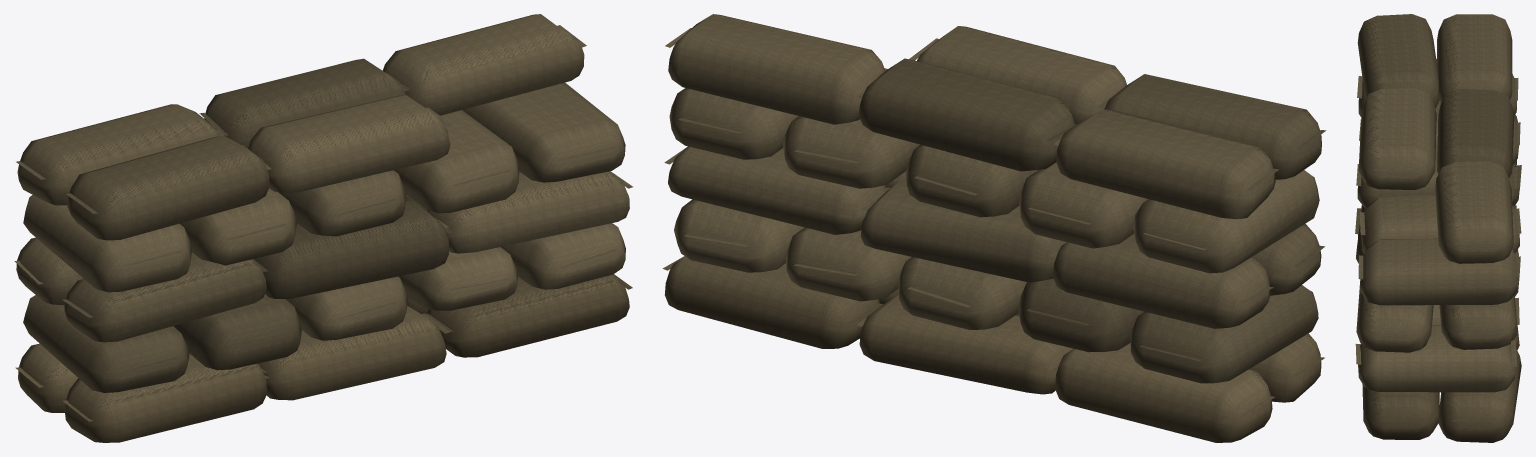
File: sandbags.glb
3 views of the same model, side by side, from view 1: azimuth 30°, elevation 25°; view 2: azimuth 150°, elevation 25°; view 3: azimuth 270°, elevation 25° (orthographic). The views are drawn at different scales.
Parts seen in each view (by area): view 1: sandbags; view 2: sandbags; view 3: sandbags.
Part boxes in pixels (x1,y1,x2,y2): sandbags: (14,14,632,442); sandbags: (662,14,1326,442); sandbags: (1355,14,1521,442).
Bounding box in the file's own units: 1.99 × 0.8987 × 0.621.
1 material, 1 textured.
